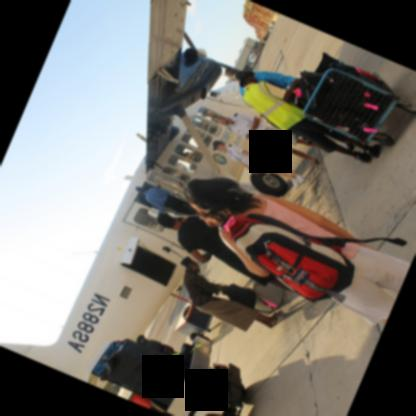backpack: (223, 212, 356, 302)
handbag: (221, 280, 274, 313)
suitcase: (106, 337, 189, 405), (300, 70, 332, 116), (251, 279, 286, 307), (314, 51, 339, 73), (356, 66, 381, 80), (178, 342, 193, 365), (293, 79, 303, 106)
